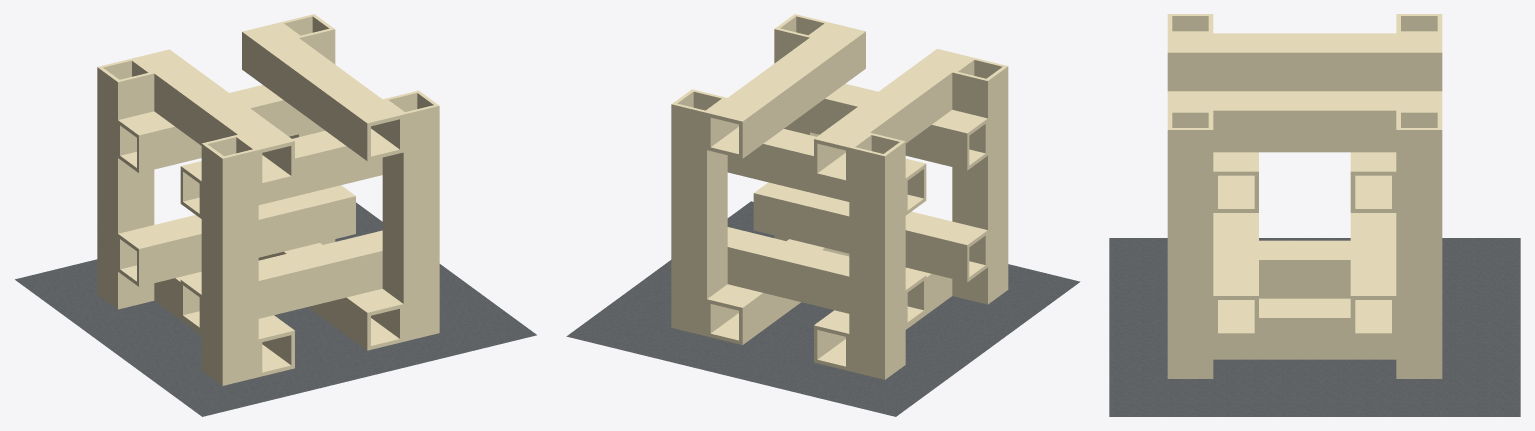
3 renders of one model, left to right at view 1: azimuth 30°, elevation 25°; view 2: azimuth 150°, elevation 25°; view 3: azimuth 270°, elevation 25°, orthographic. The views are drawn at different scales.
Visible parts, largest first — view 1: Root Node, 4827, 4828, 4832, 4826, 4833, 4834, 4831, 4835, 4836, 4830, 4825 (+1 smaller); view 2: Root Node, 4826, 4829, 4832, 4827, 4834, 4833, 4831, 4836, 4835, 4830, 4825 (+1 smaller); view 3: Root Node, 4831, 4832, 4829, 4828, 4830, 4833, 4834, 4825, 4835, 4836, 4826 (+1 smaller).
Boxes of the visible parts, box(x1,y1,x2,y2) form: Root Node: box(15, 202, 536, 416); 4827: box(201, 134, 258, 385); 4828: box(382, 90, 439, 341); 4832: box(242, 23, 403, 161); 4826: box(97, 58, 154, 309); 4833: box(118, 185, 355, 286); 4834: box(180, 230, 382, 332); 4831: box(133, 49, 294, 187); 4835: box(118, 85, 322, 173); 4836: box(180, 130, 382, 218); 4830: box(258, 243, 403, 350); 4825: box(154, 271, 294, 376); Root Node: box(566, 201, 1080, 416); 4826: box(849, 132, 905, 379); 4829: box(671, 89, 727, 336); 4832: box(707, 22, 865, 158); 4827: box(952, 57, 1008, 304); 4834: box(753, 182, 987, 282); 4833: box(727, 227, 926, 327); 4831: box(814, 48, 972, 184); 4836: box(787, 83, 987, 170); 4835: box(727, 129, 926, 215); 4830: box(707, 239, 849, 344); 4825: box(814, 267, 952, 370); Root Node: box(1109, 238, 1520, 416); 4831: box(1167, 33, 1442, 91); 4832: box(1167, 91, 1442, 152); 4829: box(1396, 110, 1442, 378); 4828: box(1167, 110, 1213, 378); 4830: box(1213, 298, 1396, 359); 4833: box(1350, 213, 1396, 337); 4834: box(1213, 213, 1258, 337); 4825: box(1259, 240, 1350, 298); 4835: box(1350, 152, 1396, 212); 4836: box(1213, 152, 1258, 212); 4826: box(1396, 14, 1442, 33).
Bounding box in the file's own units: 9.26 × 6 × 8.99.
Materials: 121 (1 with a texture image).
